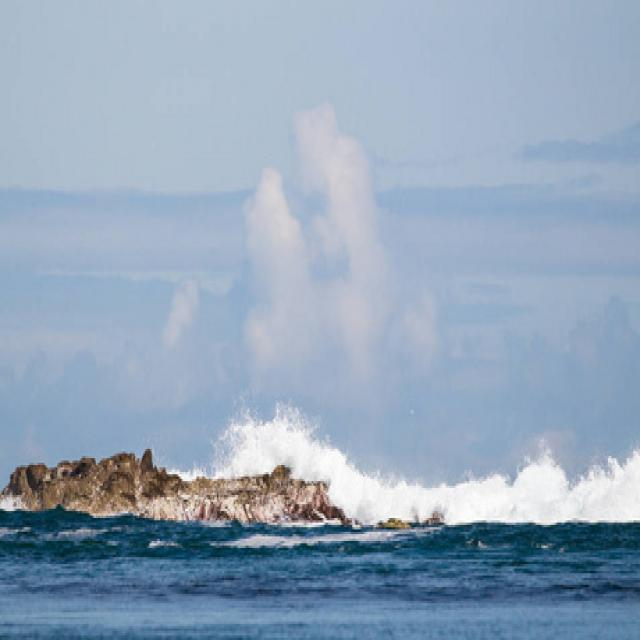reef: (18, 416, 333, 540)
